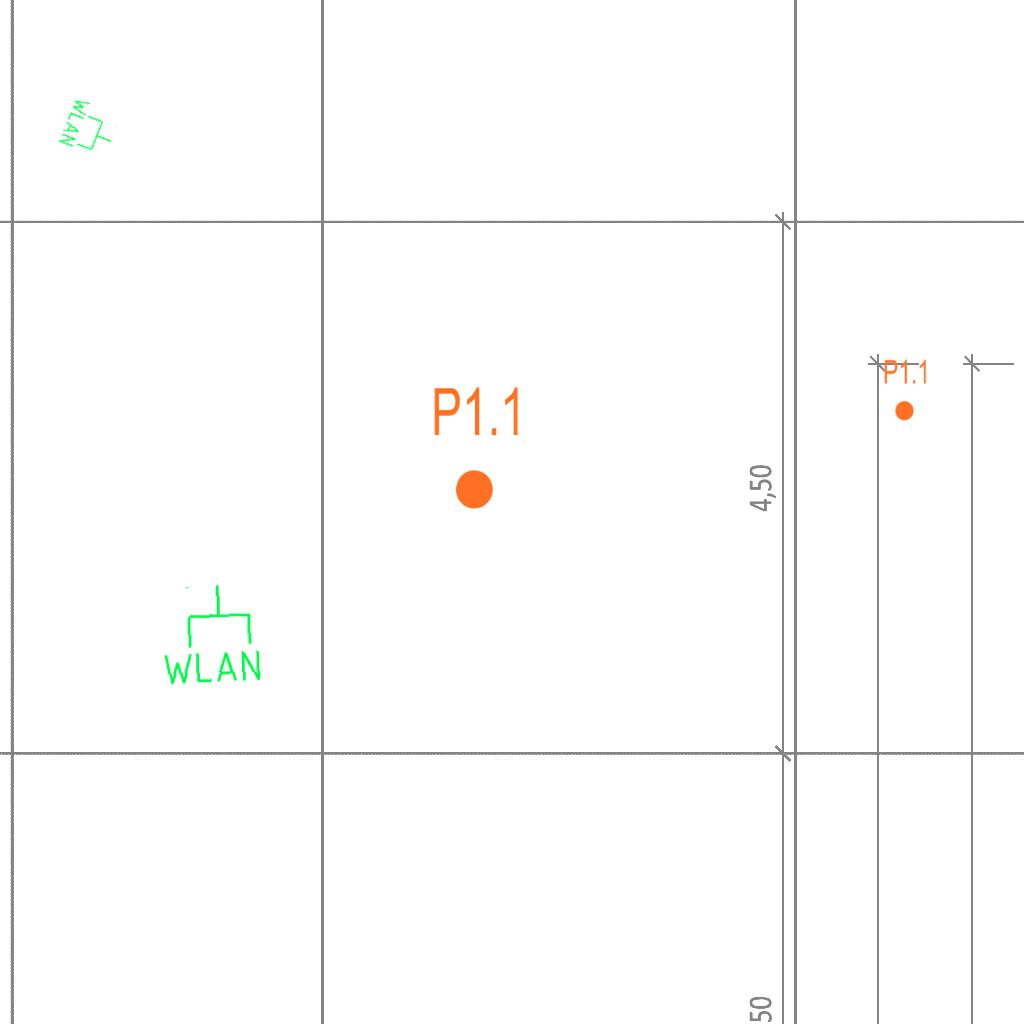Downlight_LED_Einbauleuchten_Flur: (431, 384, 524, 512), (883, 358, 929, 422)
WLAN: (154, 579, 266, 690), (56, 94, 124, 162)
